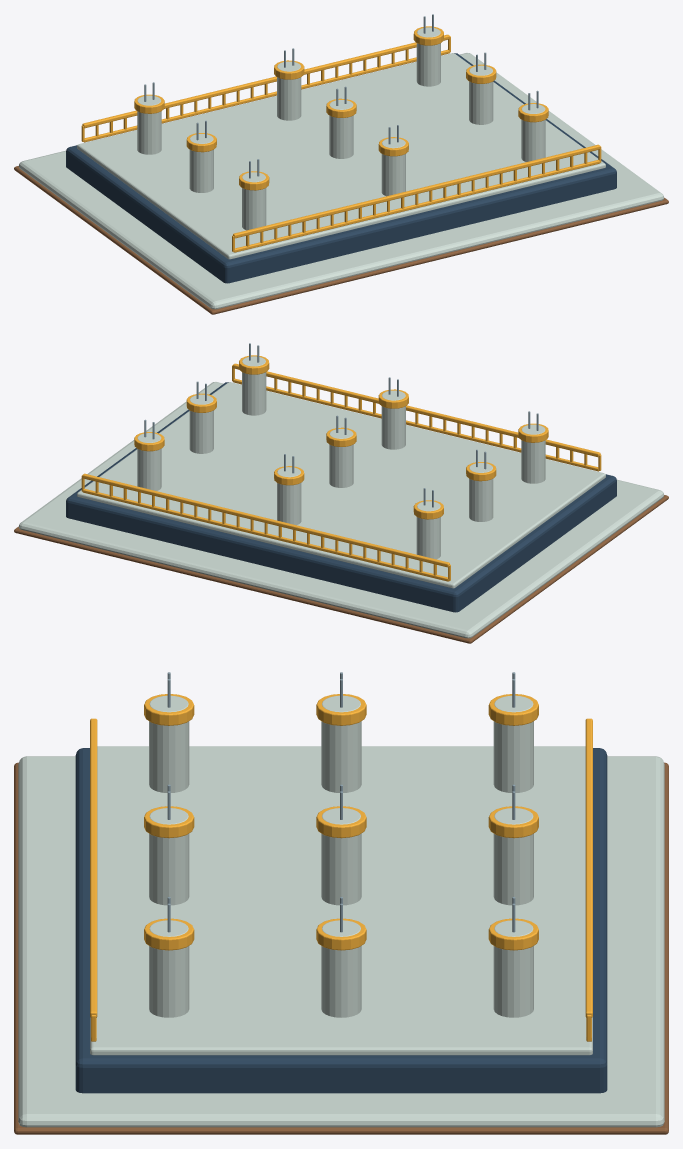
File: SM_Building_Stage1.fbx
The picture shows the model from 3 angles, top to bottom: view 1: azimuth 30°, elevation 25°; view 2: azimuth 150°, elevation 25°; view 3: azimuth 270°, elevation 25°; orthographic projection. The views are drawn at different scales.
Parts seen in each view (by area): view 1: Foundation top, Beveled site foundation.001, Deep foundation mat, Foundation shadow course.001, Balcony handrail, Balcony bottom rail, Balcony handrail.001, Balcony bottom rail.001, Reinforced pile.002, Reinforced pile.005, Reinforced pile.008, Reinforced pile.004 (+5 smaller); view 2: Foundation top, Beveled site foundation.001, Deep foundation mat, Foundation shadow course.001, Balcony handrail.001, Balcony bottom rail.001, Balcony handrail, Balcony bottom rail, Reinforced pile, Reinforced pile.003, Reinforced pile.006, Reinforced pile.004 (+5 smaller); view 3: Foundation top, Beveled site foundation.001, Deep foundation mat, Foundation shadow course.001, Reinforced pile.006, Reinforced pile.008, Reinforced pile.007, Reinforced pile, Reinforced pile.002, Reinforced pile.003, Reinforced pile.005, Reinforced pile.004 (+12 smaller).
Boxes of the visible parts, bbox=[...] form: Foundation top: bbox=[77, 53, 605, 259]; Beveled site foundation.001: bbox=[18, 53, 664, 309]; Deep foundation mat: bbox=[66, 53, 616, 283]; Foundation shadow course.001: bbox=[14, 166, 668, 314]; Balcony handrail: bbox=[233, 144, 600, 238]; Balcony bottom rail: bbox=[234, 160, 600, 252]; Balcony handrail.001: bbox=[82, 34, 449, 128]; Balcony bottom rail.001: bbox=[84, 49, 449, 142]; Reinforced pile.002: bbox=[137, 95, 161, 154]; Reinforced pile.005: bbox=[277, 61, 301, 120]; Reinforced pile.008: bbox=[416, 27, 440, 86]; Reinforced pile.004: bbox=[329, 100, 353, 158]; Foundation top: bbox=[77, 382, 605, 588]; Beveled site foundation.001: bbox=[18, 382, 664, 638]; Deep foundation mat: bbox=[66, 382, 616, 612]; Foundation shadow course.001: bbox=[14, 495, 668, 643]; Balcony handrail.001: bbox=[82, 473, 449, 567]; Balcony bottom rail.001: bbox=[82, 489, 448, 581]; Balcony handrail: bbox=[233, 363, 600, 457]; Balcony bottom rail: bbox=[233, 378, 598, 471]; Reinforced pile: bbox=[521, 424, 545, 483]; Reinforced pile.003: bbox=[381, 390, 405, 449]; Reinforced pile.006: bbox=[242, 356, 266, 415]; Reinforced pile.004: bbox=[329, 429, 353, 487]; Foundation top: bbox=[90, 746, 592, 1055]; Beveled site foundation.001: bbox=[18, 756, 664, 1127]; Deep foundation mat: bbox=[75, 748, 607, 1093]; Foundation shadow course.001: bbox=[14, 762, 668, 1134]; Reinforced pile.006: bbox=[149, 920, 189, 1017]; Reinforced pile.008: bbox=[493, 920, 533, 1017]; Reinforced pile.007: bbox=[321, 920, 361, 1017]; Reinforced pile: bbox=[149, 695, 189, 792]; Reinforced pile.002: bbox=[493, 695, 533, 792]; Reinforced pile.003: bbox=[149, 808, 189, 905]; Reinforced pile.005: bbox=[493, 808, 533, 905]; Reinforced pile.004: bbox=[321, 808, 361, 905].
Bounding box in the file's own units: 12.12 × 2.52 × 9.12.
